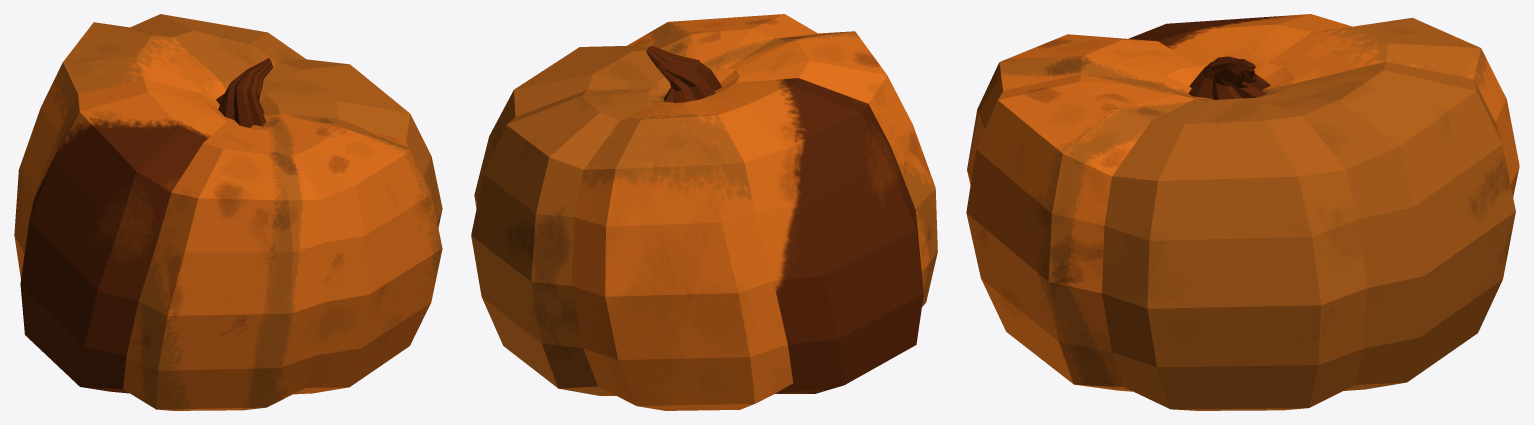
Rendered from Pumpkin013.fbx.
3 views of the same model, side by side, from view 1: azimuth 30°, elevation 25°; view 2: azimuth 150°, elevation 25°; view 3: azimuth 270°, elevation 25° (orthographic). The views are drawn at different scales.
Parts seen in each view (by area): view 1: Pumpkin013; view 2: Pumpkin013; view 3: Pumpkin013.
Part boxes in pixels (x1,y1,x2,y2): Pumpkin013: [14, 14, 442, 410]; Pumpkin013: [471, 14, 937, 410]; Pumpkin013: [966, 14, 1519, 410].
Bounding box in the file's own units: 93.09 × 69.85 × 110.
